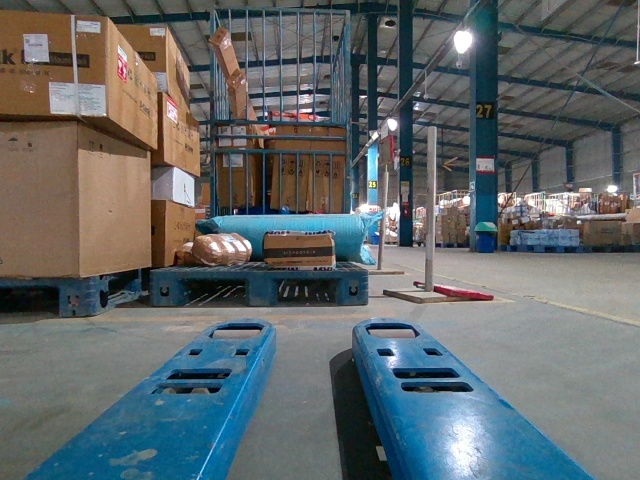block: (58, 276, 95, 318), (149, 267, 185, 306), (247, 270, 276, 306), (342, 268, 368, 306)
front: (149, 270, 367, 305)
hole pallet: (272, 276, 343, 302), (179, 276, 249, 302)
